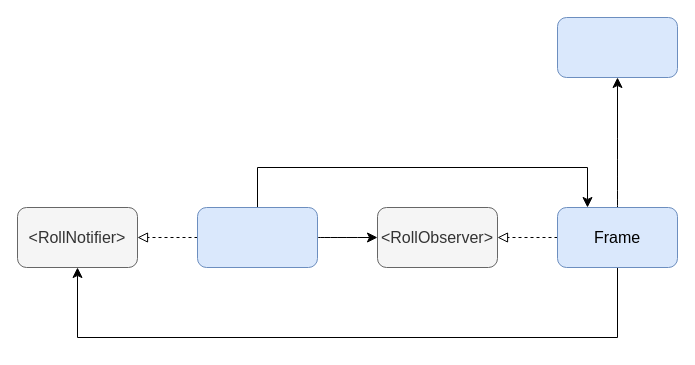
This 695x365 diagram has some shape labels left out. The centre of each missing label's shape, as x and y in pixels:
BowlingGame: the point at 257,237
Roll: the point at 617,47
